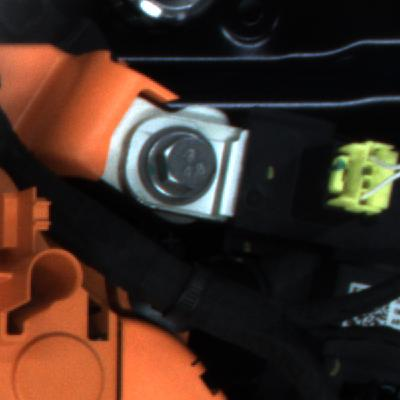nut_b: (133, 125, 236, 219)
